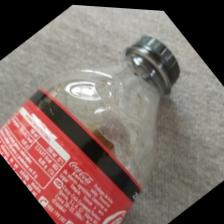plastic: (0, 5, 223, 223)
